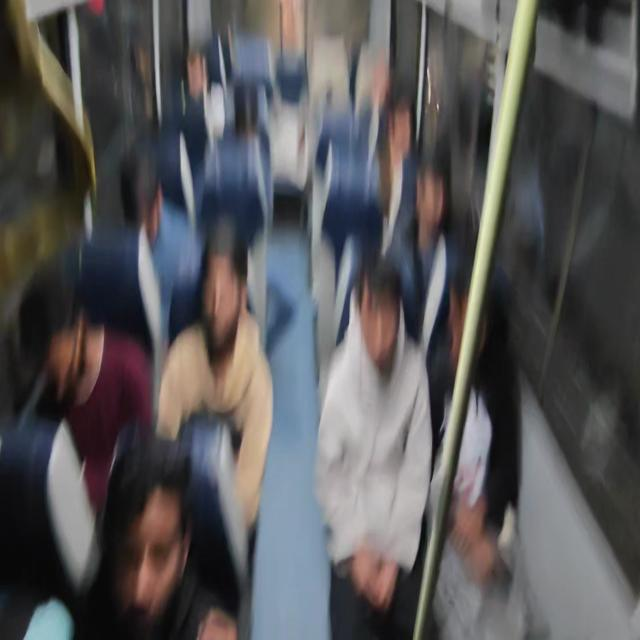person: (23, 279, 163, 534), (428, 258, 517, 454), (109, 453, 198, 640), (251, 90, 335, 220), (201, 213, 268, 357), (319, 278, 424, 363), (118, 157, 192, 256), (376, 96, 431, 206), (189, 40, 226, 128), (429, 156, 465, 241), (231, 81, 267, 140), (368, 50, 409, 100)
